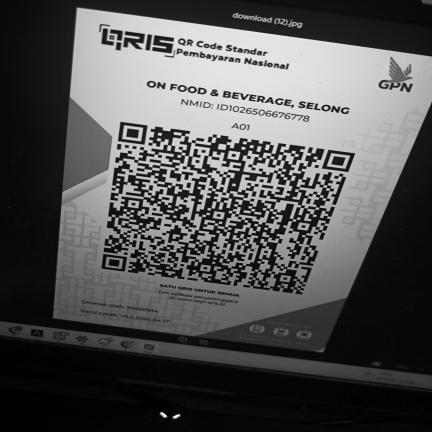Qris-Positioning: (54, 9, 432, 351)
